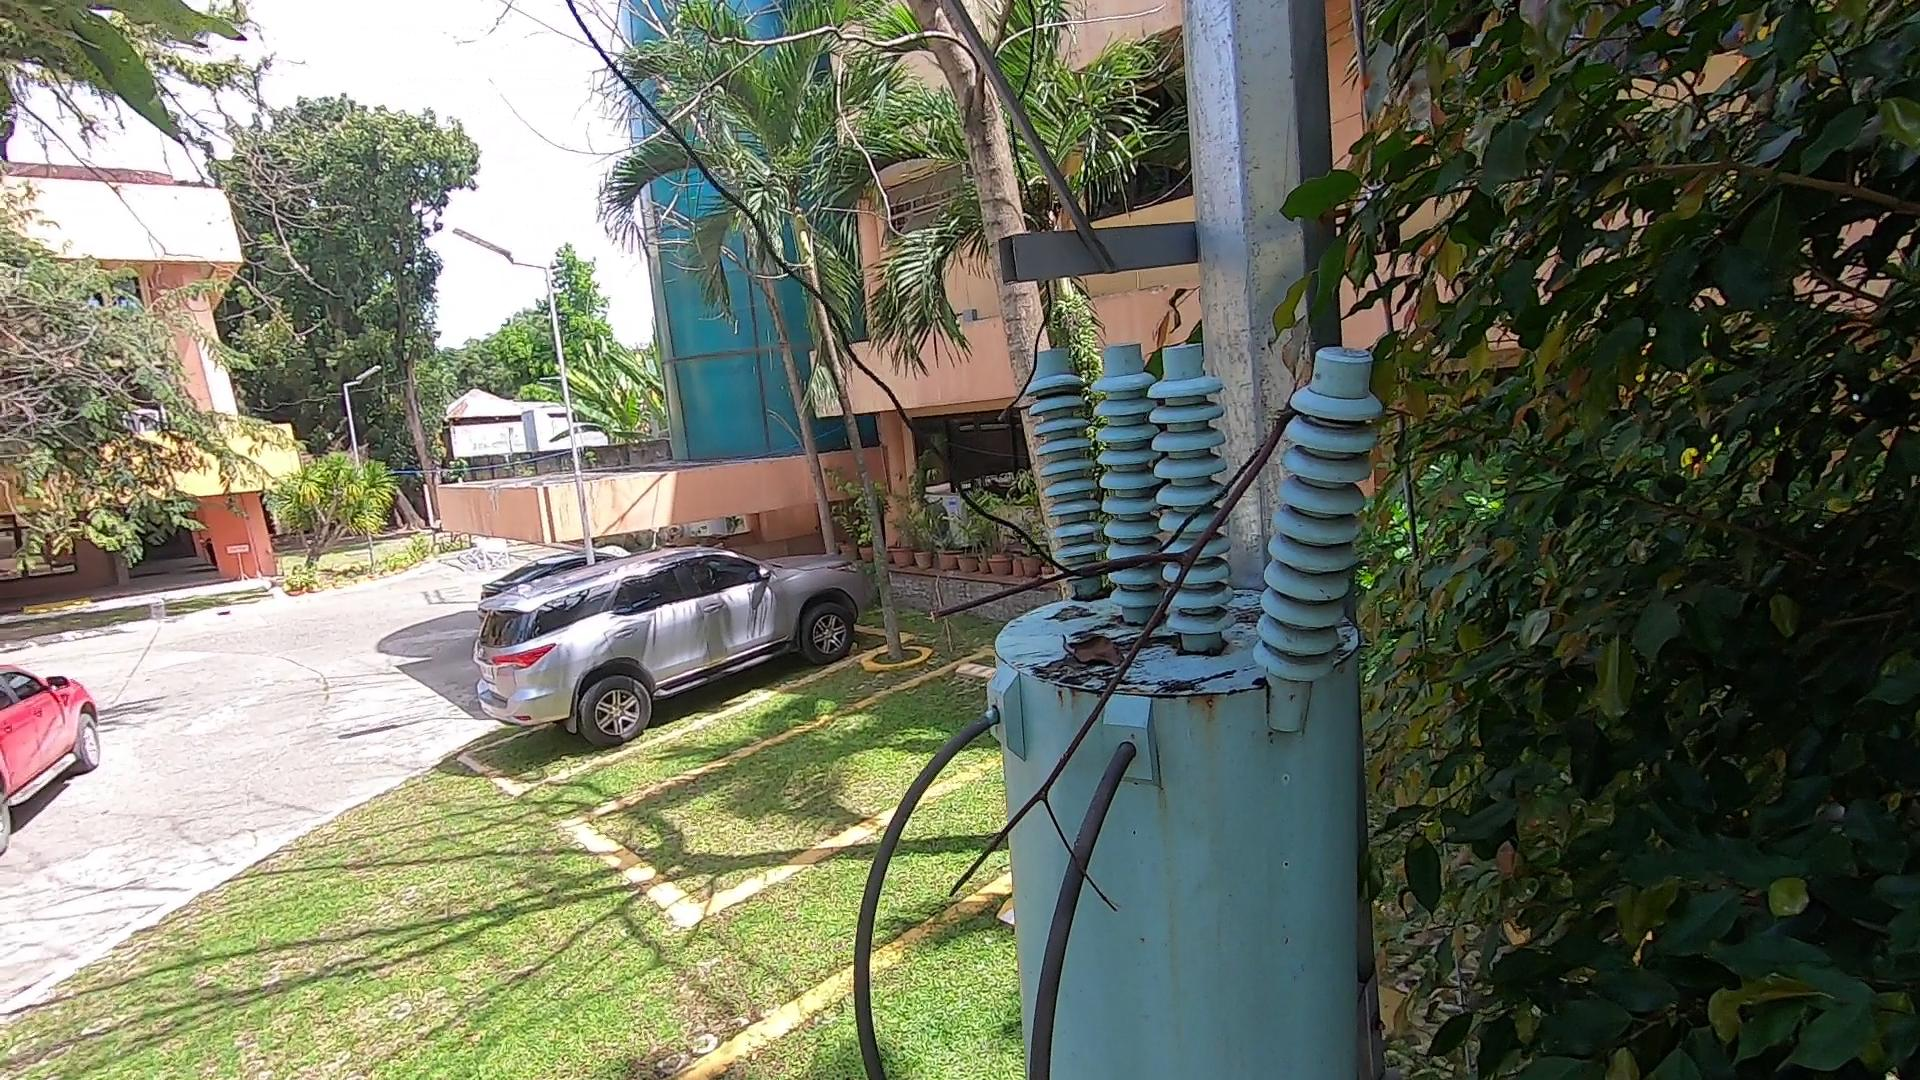tree branch: (909, 407, 1327, 930), (1038, 621, 1135, 682)
